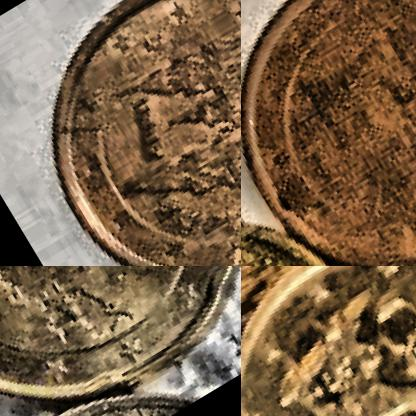coin: (0, 0, 240, 265), (241, 0, 415, 265), (0, 266, 240, 415), (241, 266, 415, 415)
